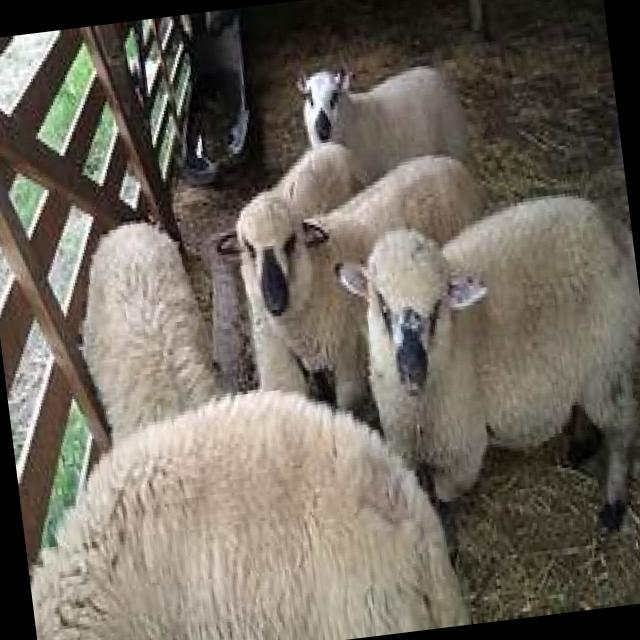sheep: (330, 182, 640, 547), (212, 153, 504, 422), (288, 53, 477, 193)
